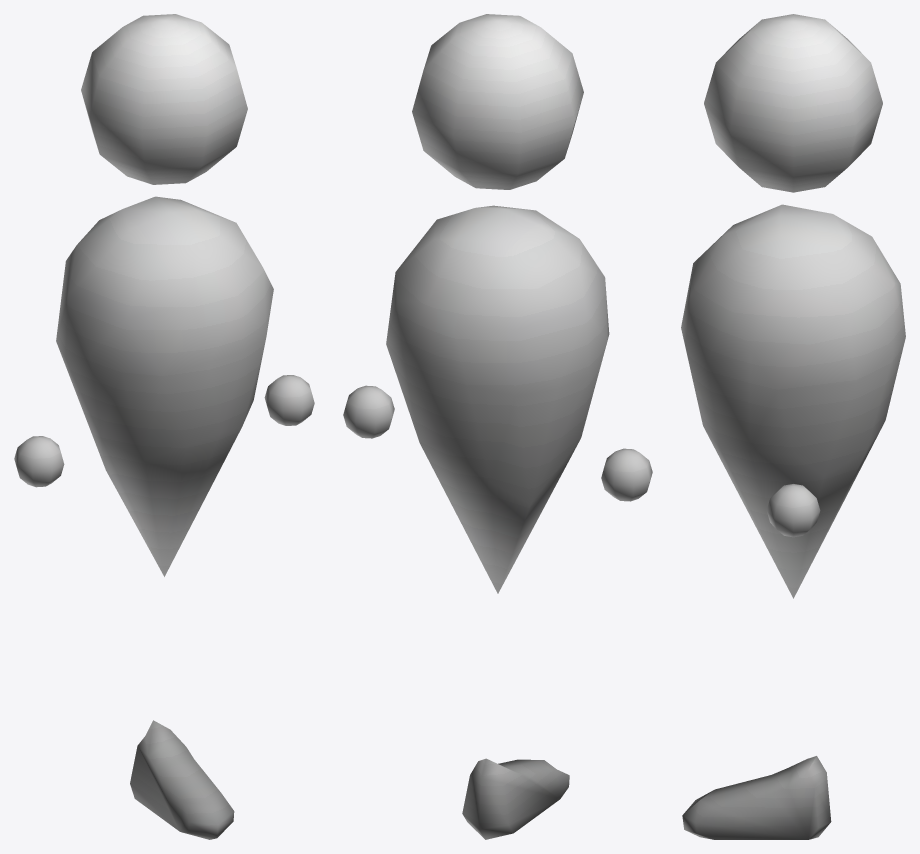
File: Humanoid.fbx
3 views of the same model, side by side, from view 1: azimuth 30°, elevation 25°; view 2: azimuth 150°, elevation 25°; view 3: azimuth 270°, elevation 25° (orthographic). The views are drawn at different scales.
Visible parts, largest first — view 1: Body, Head, Foot, Hand.Left, Hand.Right; view 2: Body, Head, Foot, Hand.Left, Hand.Right; view 3: Body, Head, Foot, Hand.Left.
Part boxes in pixels (x1,y1,x2,y2): Body: (56, 196, 273, 576); Head: (81, 14, 247, 184); Foot: (130, 720, 234, 839); Hand.Left: (264, 375, 314, 425); Hand.Right: (14, 436, 64, 487); Body: (386, 205, 609, 593); Head: (412, 14, 583, 189); Foot: (462, 758, 569, 839); Hand.Left: (343, 385, 394, 438); Hand.Right: (601, 448, 652, 501); Body: (681, 204, 905, 598); Head: (704, 14, 882, 192); Foot: (682, 756, 831, 839); Hand.Left: (766, 484, 820, 537).
Size of the model in its own units: 0.5917 by 1.5 by 0.3763.
